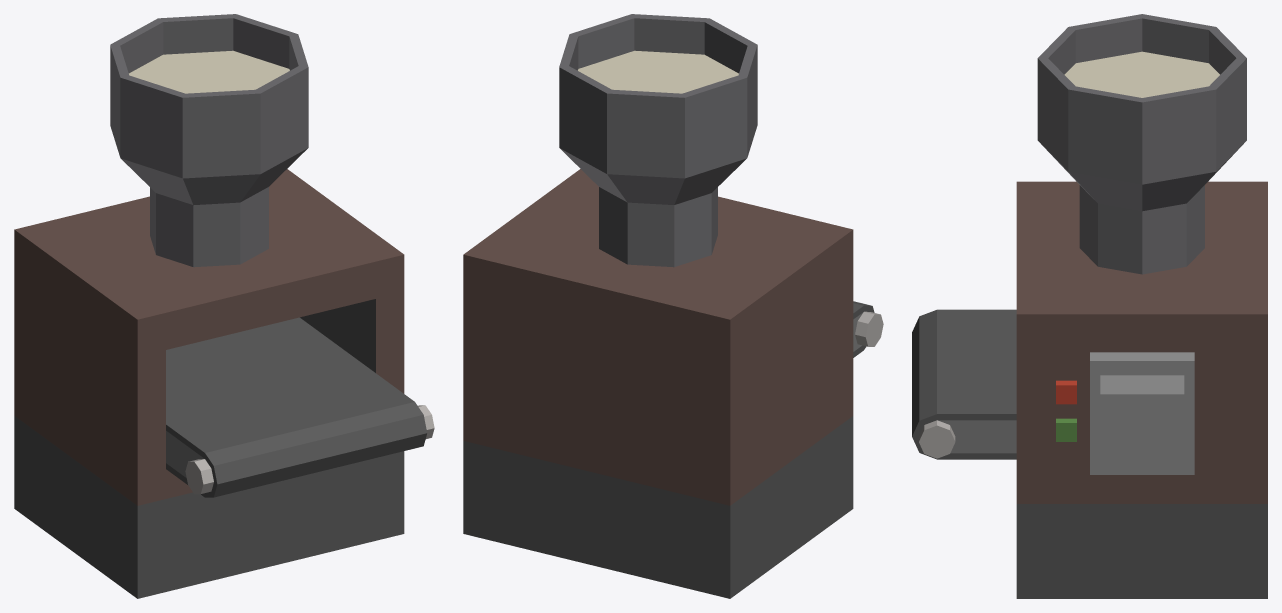
The model's file is DonutFryer03.fbx.
3 views of the same model, side by side, from view 1: azimuth 30°, elevation 25°; view 2: azimuth 150°, elevation 25°; view 3: azimuth 270°, elevation 25° (orthographic).
Parts seen in each view (by area): view 1: DonutFryer03; view 2: DonutFryer03; view 3: DonutFryer03.
Boxes of the visible parts, x1,y1,x2,y2 form: DonutFryer03: [14, 14, 434, 598]; DonutFryer03: [463, 14, 883, 598]; DonutFryer03: [912, 14, 1267, 598].
Bounding box in the file's own units: 1.6 × 2.5 × 1.7.
